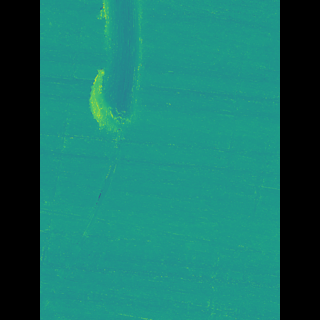Loch: (70, 132, 134, 312), (105, 0, 151, 136)
